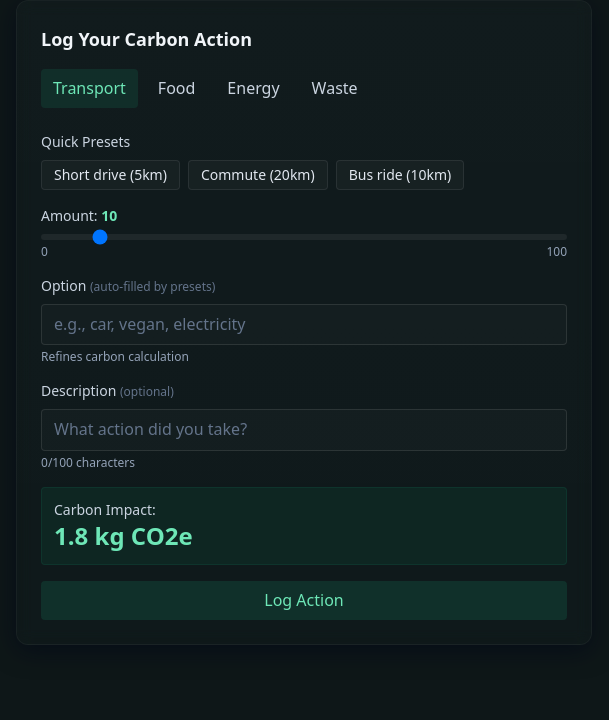
Scenario: AssessmentForm accessibility and sanitization › handles category tabs, slider and validation error
This screenshot has width=609, height=720.
Click on a category tab (using aria-label)
Click the tab with aria-label "energy category" at (253, 89), box x1=215 y1=69 x2=292 y2=108
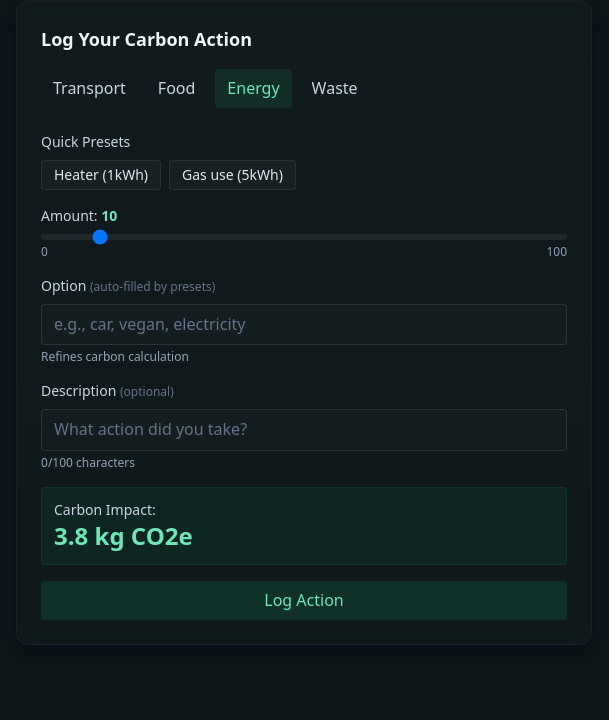
Option input and slider
Type "electricity" into the field named "Option input" at (304, 325), box x1=41 y1=304 x2=567 y2=345
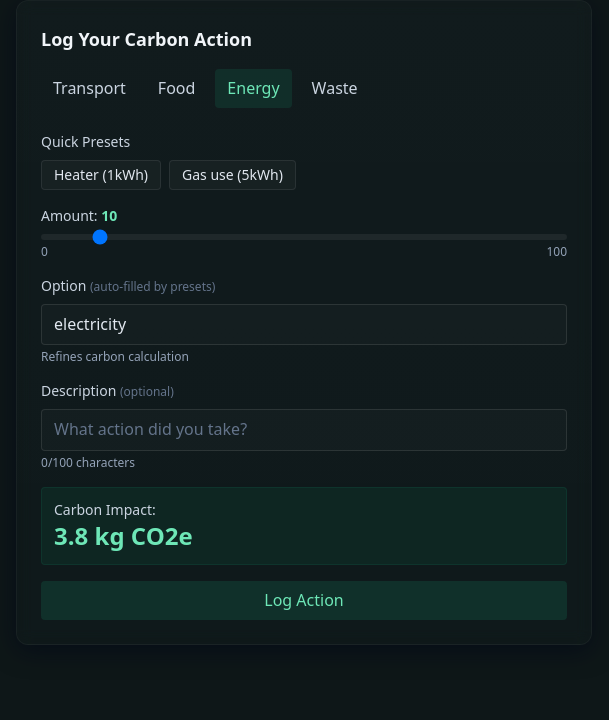
Set the slider named "Amount slider" to "0" at (49, 237), box x1=41 y1=234 x2=567 y2=240
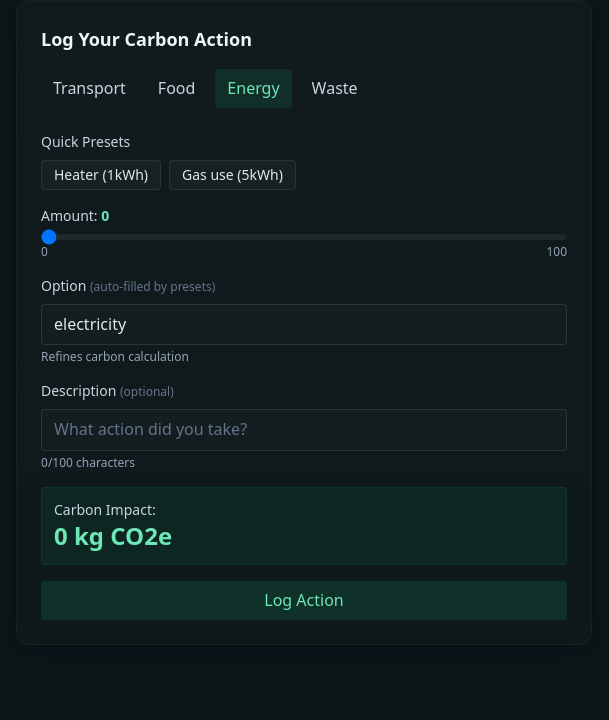
Submitting with value 0 should trigger validation error
Click the button with aria-label "Submit carbon log" at (304, 600), box x1=41 y1=581 x2=567 y2=620
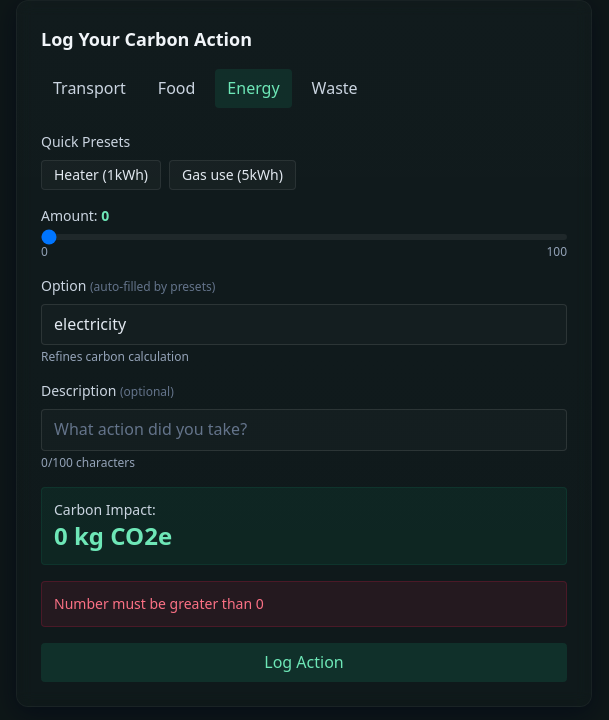
Now the 2nd message is shown, box x1=41 y1=581 x2=567 y2=627
